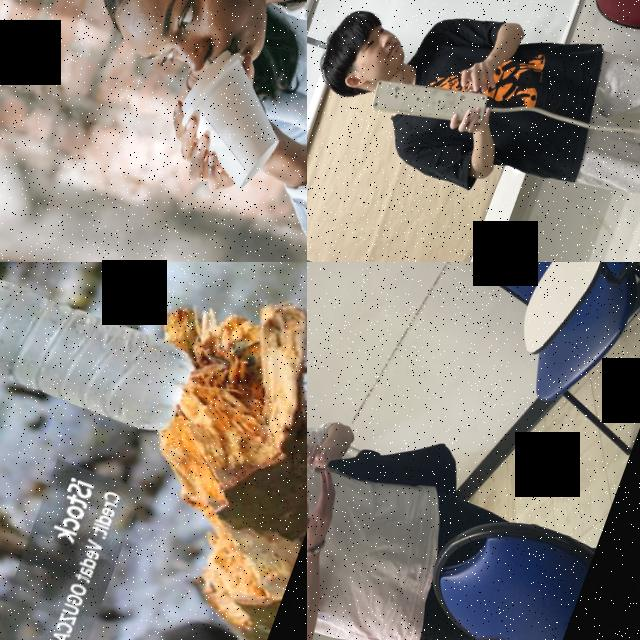bottle: (0, 262, 202, 443), (307, 409, 328, 494)
cup: (160, 38, 305, 198)
